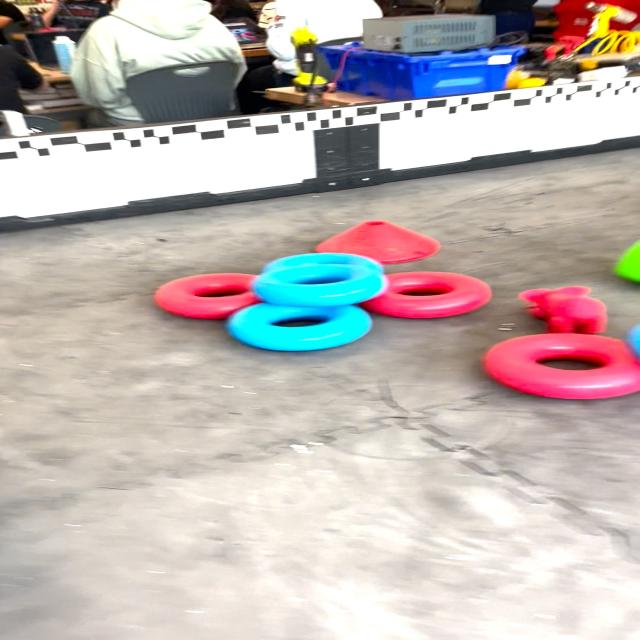Blue-Ring: (227, 302, 371, 351), (253, 264, 387, 308)
Red-Ring: (482, 334, 640, 399), (360, 271, 491, 319), (156, 274, 260, 319)
